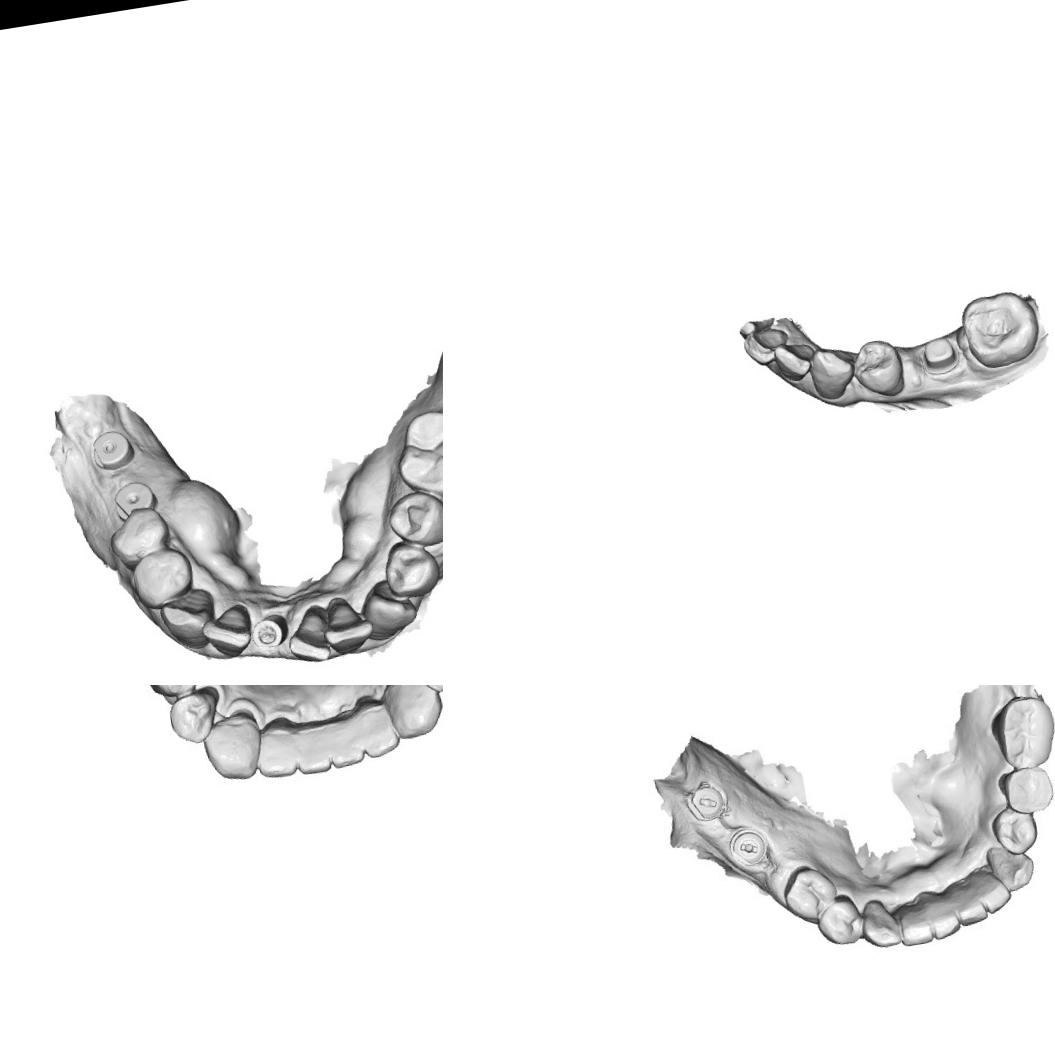abutment: (918, 333, 961, 378)
canine: (156, 583, 222, 654), (356, 572, 421, 641), (200, 714, 264, 784), (377, 685, 443, 745), (805, 341, 858, 402), (861, 896, 907, 950), (984, 840, 1034, 889)
implant: (88, 426, 136, 471), (112, 477, 160, 522), (248, 608, 290, 654)
implant_minus: (685, 776, 732, 826), (725, 824, 772, 872)
incisor: (318, 591, 378, 653), (198, 601, 257, 664), (282, 602, 336, 668), (252, 715, 303, 776), (356, 702, 399, 760), (771, 337, 820, 385), (327, 712, 368, 768), (740, 326, 792, 368), (950, 872, 989, 926), (293, 721, 331, 775), (924, 888, 965, 938), (898, 898, 937, 949), (971, 866, 1012, 910)
molar: (956, 287, 1044, 373), (387, 402, 443, 510), (994, 695, 1055, 771)
premolar: (102, 501, 176, 574), (128, 544, 200, 611), (377, 535, 443, 603), (848, 335, 909, 403), (382, 486, 443, 553), (165, 685, 222, 745), (780, 862, 836, 921), (1001, 763, 1055, 817), (815, 901, 862, 948), (994, 807, 1034, 855), (141, 685, 205, 707)
